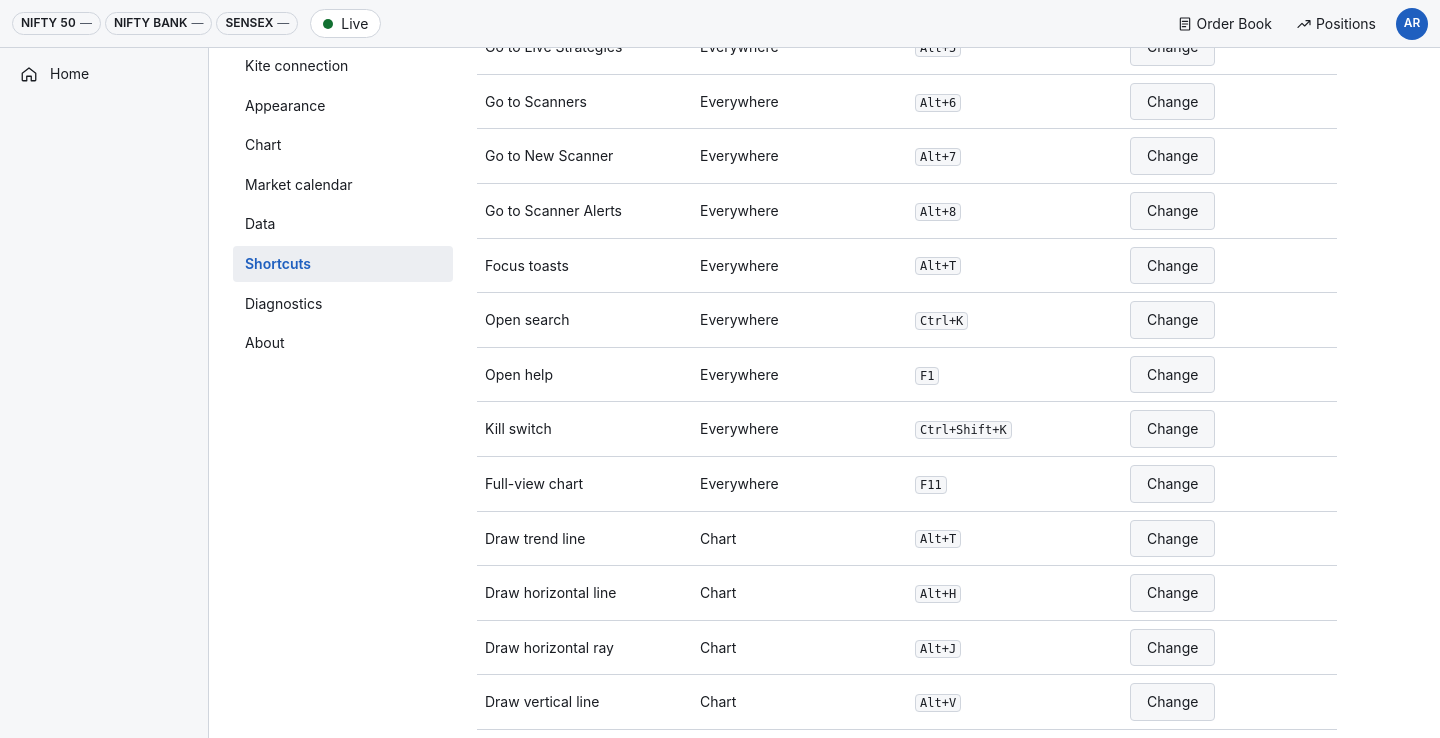
FR-SHELL-019 Settings → Shortcuts › AC2: a binding used in an overlapping scope is refused, naming the other action
(page scrolled)
Click the button named "Change shortcut for Kill switch" at coordinates (1173, 429), box [1130,410,1215,448]
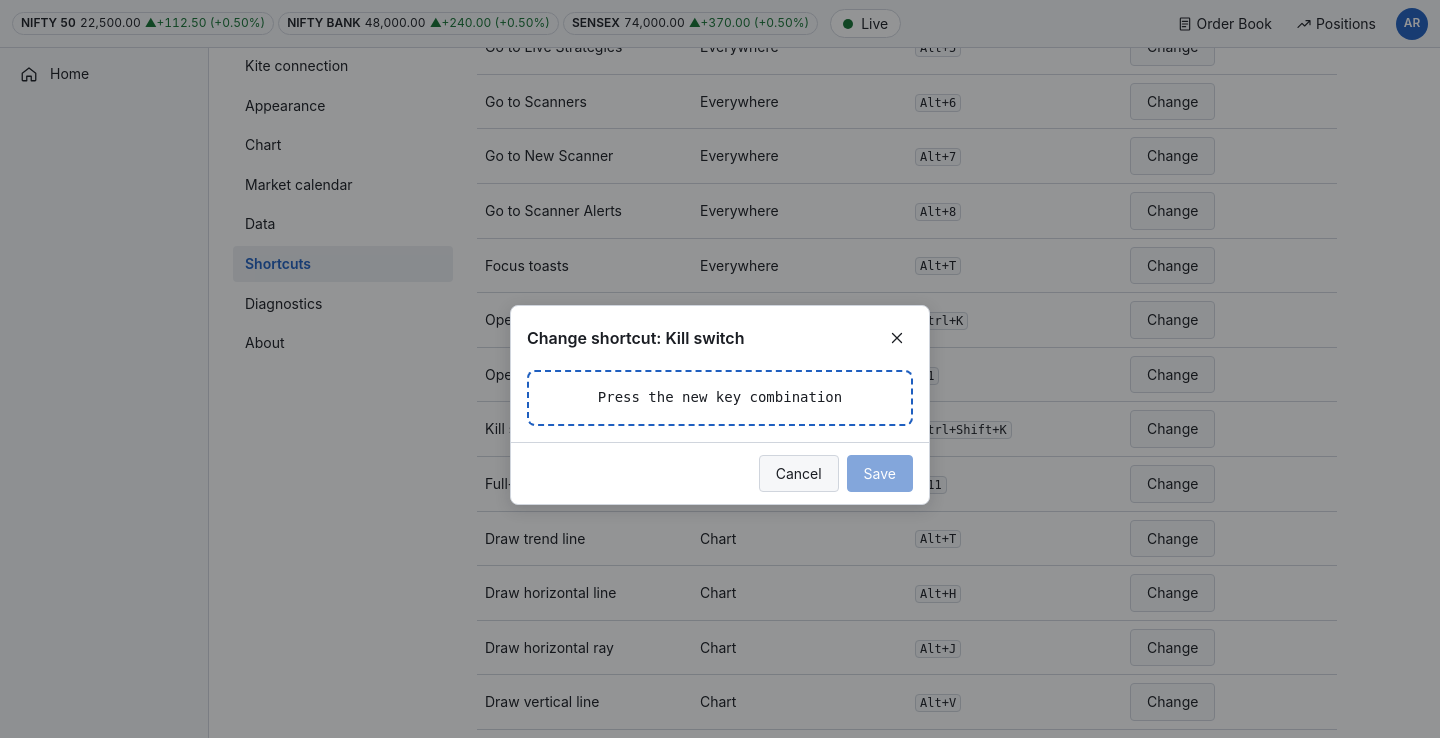
Type keys "{Alt>}1{/Alt}"
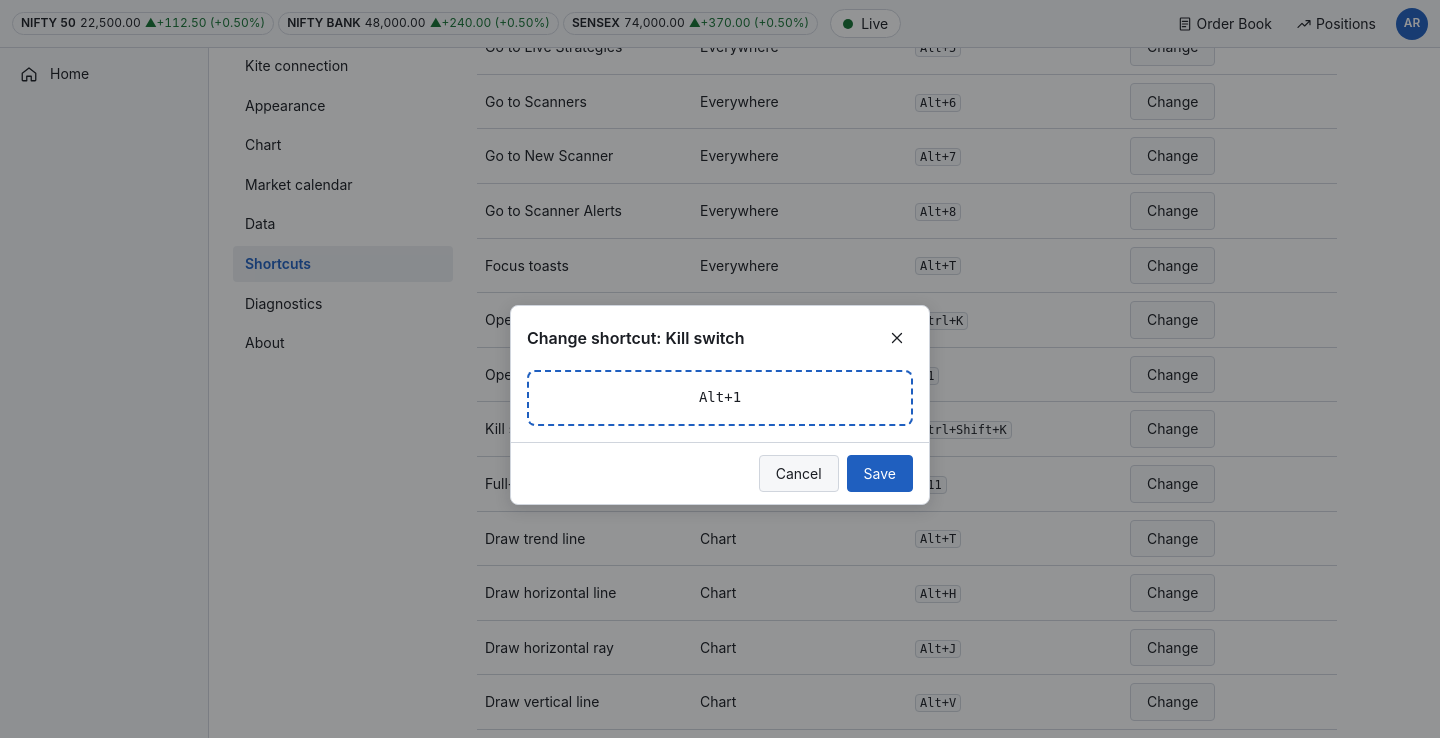
Now the field named "New shortcut" reads "Alt+1", box [699,389,741,405]
Click the button "Save" at coordinates (880, 473), box [847,454,913,492]
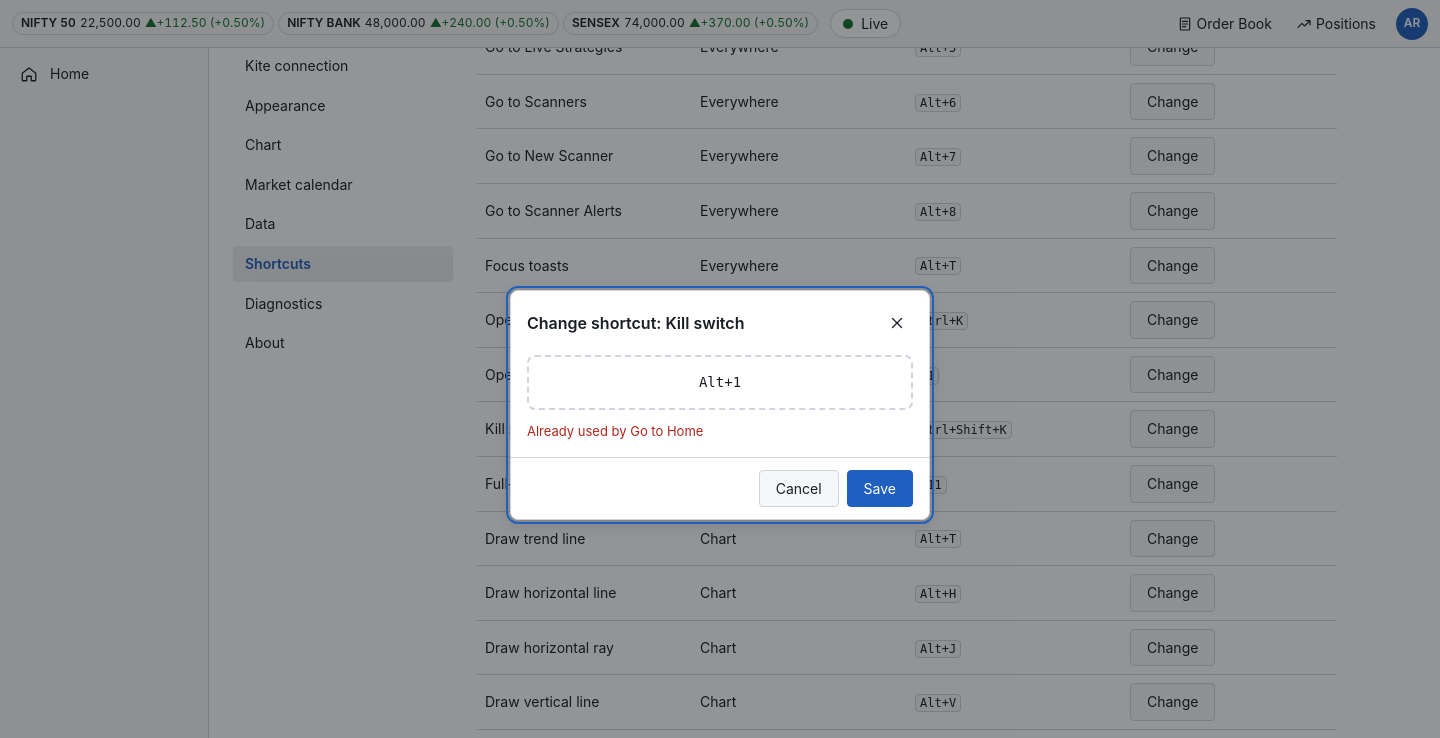
Now the message reads "Already used by Go to Home", box [527,423,703,439]
